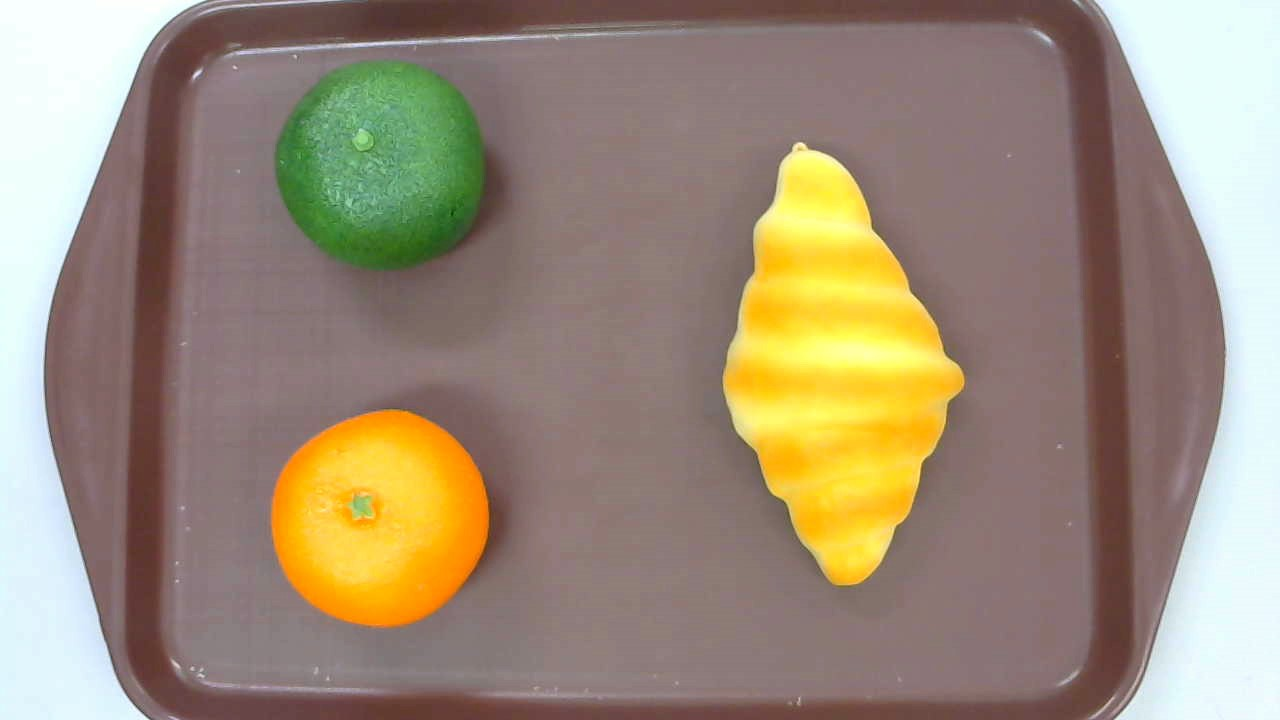croissant: (721, 141, 963, 584)
green orange: (275, 60, 484, 270)
orange: (271, 408, 490, 629)
